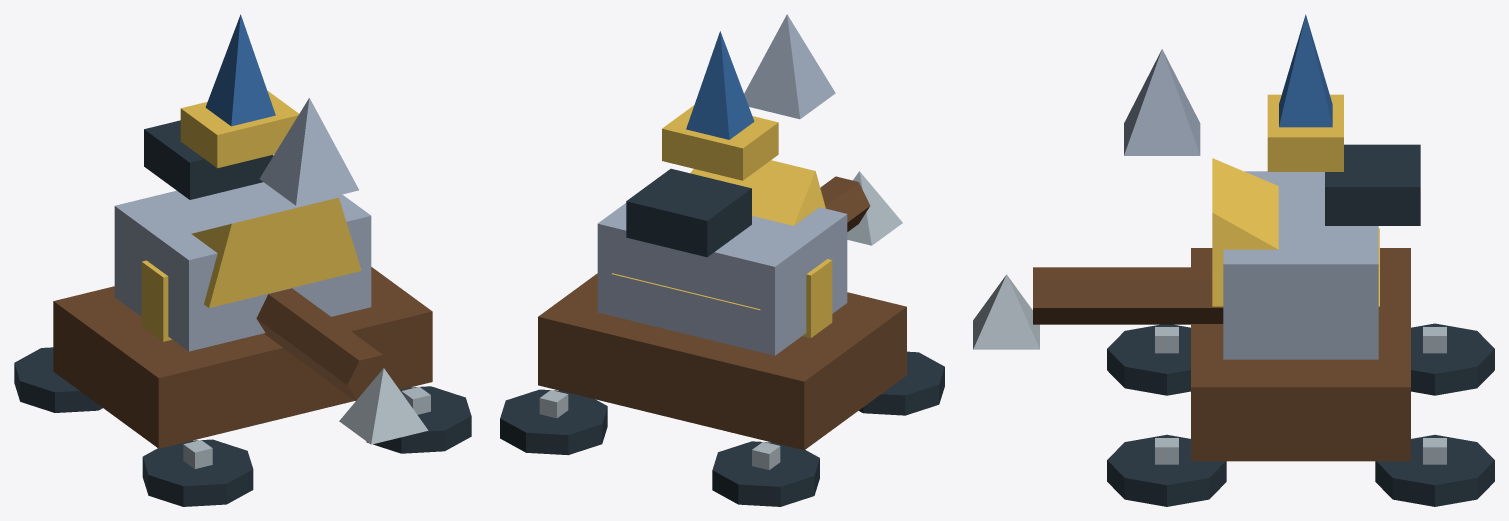
The model's file is siege.obj.
3 renders of one model, left to right at view 1: azimuth 30°, elevation 25°; view 2: azimuth 150°, elevation 25°; view 3: azimuth 270°, elevation 25°, orthographic. The views are drawn at different scales.
Parts seen in each view (by area): view 1: siege; view 2: siege; view 3: siege.
Part boxes in pixels (x1,y1,x2,y2): siege: (14,14,471,506); siege: (500,14,944,506); siege: (973,14,1494,506).
Bounding box in the file's own units: 1.6 × 1.9 × 2.18.
